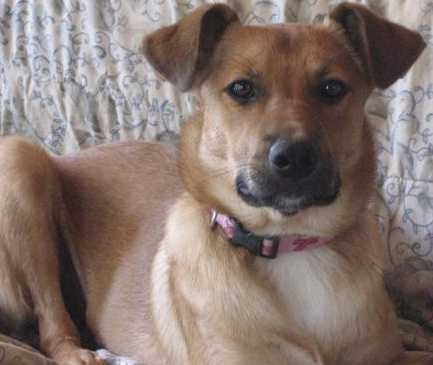Dog: (123, 3, 424, 364)
